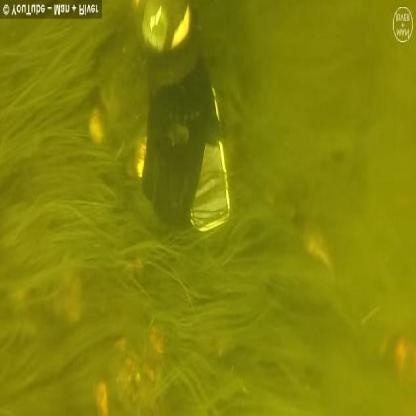cellphone: (186, 70, 232, 236)
